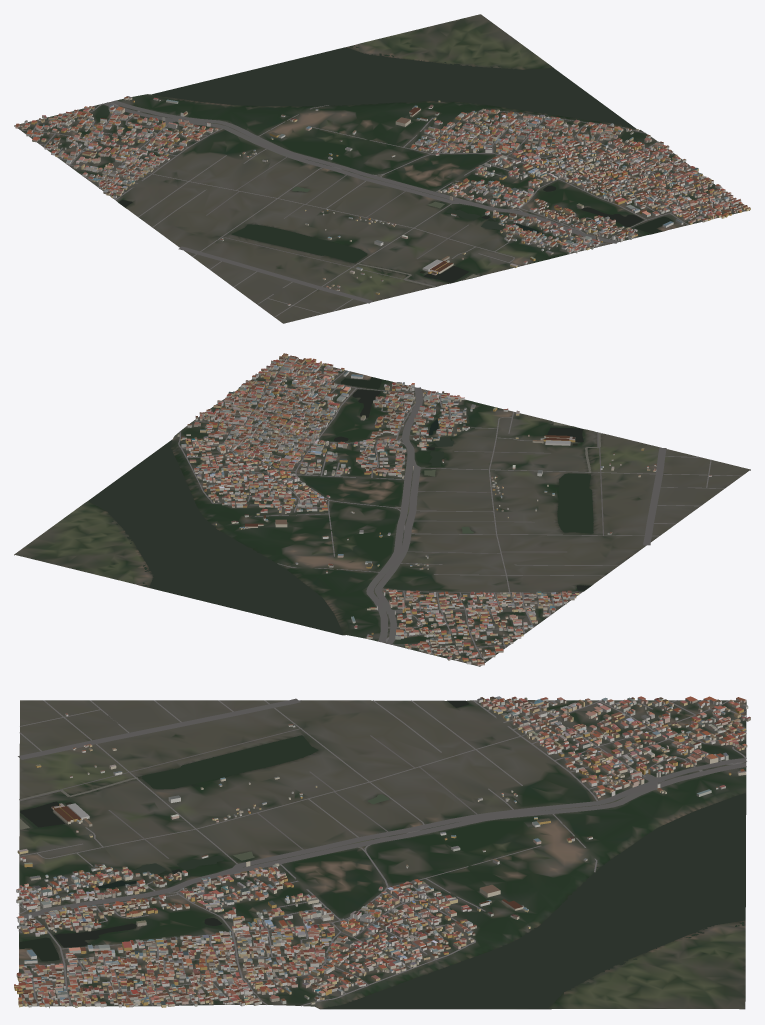
3 renders of one model, top to bottom at view 1: azimuth 30°, elevation 25°; view 2: azimuth 150°, elevation 25°; view 3: azimuth 270°, elevation 25°, orthographic. The views are drawn at different scales.
Visible parts, largest first — view 1: ground, buildings, water, roads; view 2: ground, buildings, water, roads; view 3: ground, buildings, water, roads.
Part boxes in pixels (x1,y1,x2,y2): ground: [14, 14, 749, 323]; buildings: [15, 96, 750, 305]; water: [118, 45, 672, 287]; roads: [20, 100, 745, 317]; ground: [14, 356, 750, 666]; buildings: [177, 353, 711, 665]; water: [88, 377, 600, 634]; roads: [178, 357, 741, 662]; ground: [19, 700, 746, 1009]; buildings: [14, 696, 750, 1008]; water: [19, 700, 745, 1008]; roads: [16, 698, 746, 1006].
Size of the model in its own units: 1412 by 22.54 by 1422.
